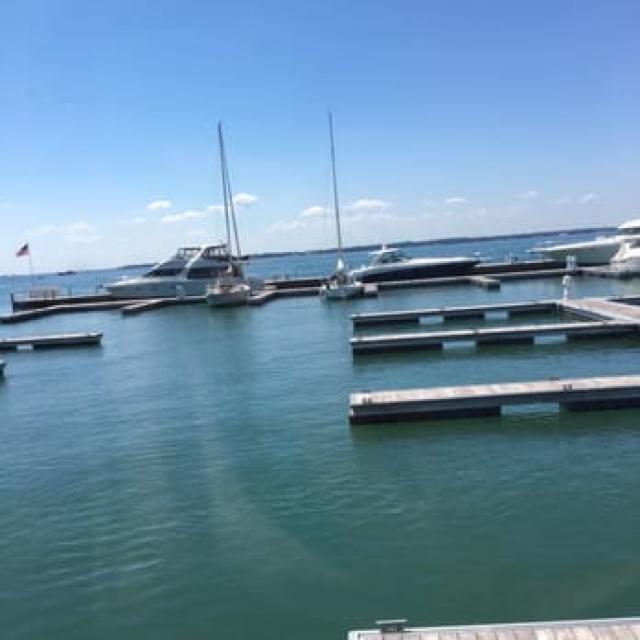houseboat: (98, 237, 254, 297), (524, 206, 640, 265), (344, 237, 476, 284)
